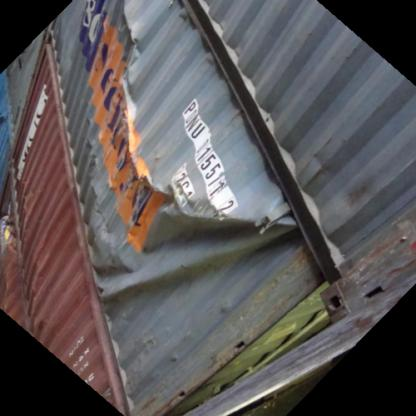Damage: (78, 189, 310, 302), (73, 5, 170, 197)
